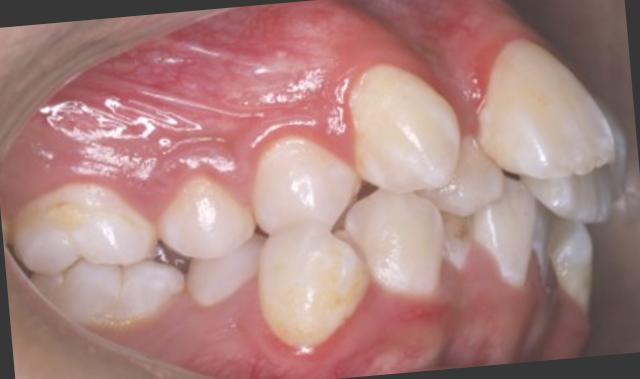canine class II full class: (237, 34, 478, 357)
molar class I: (4, 159, 195, 340)
